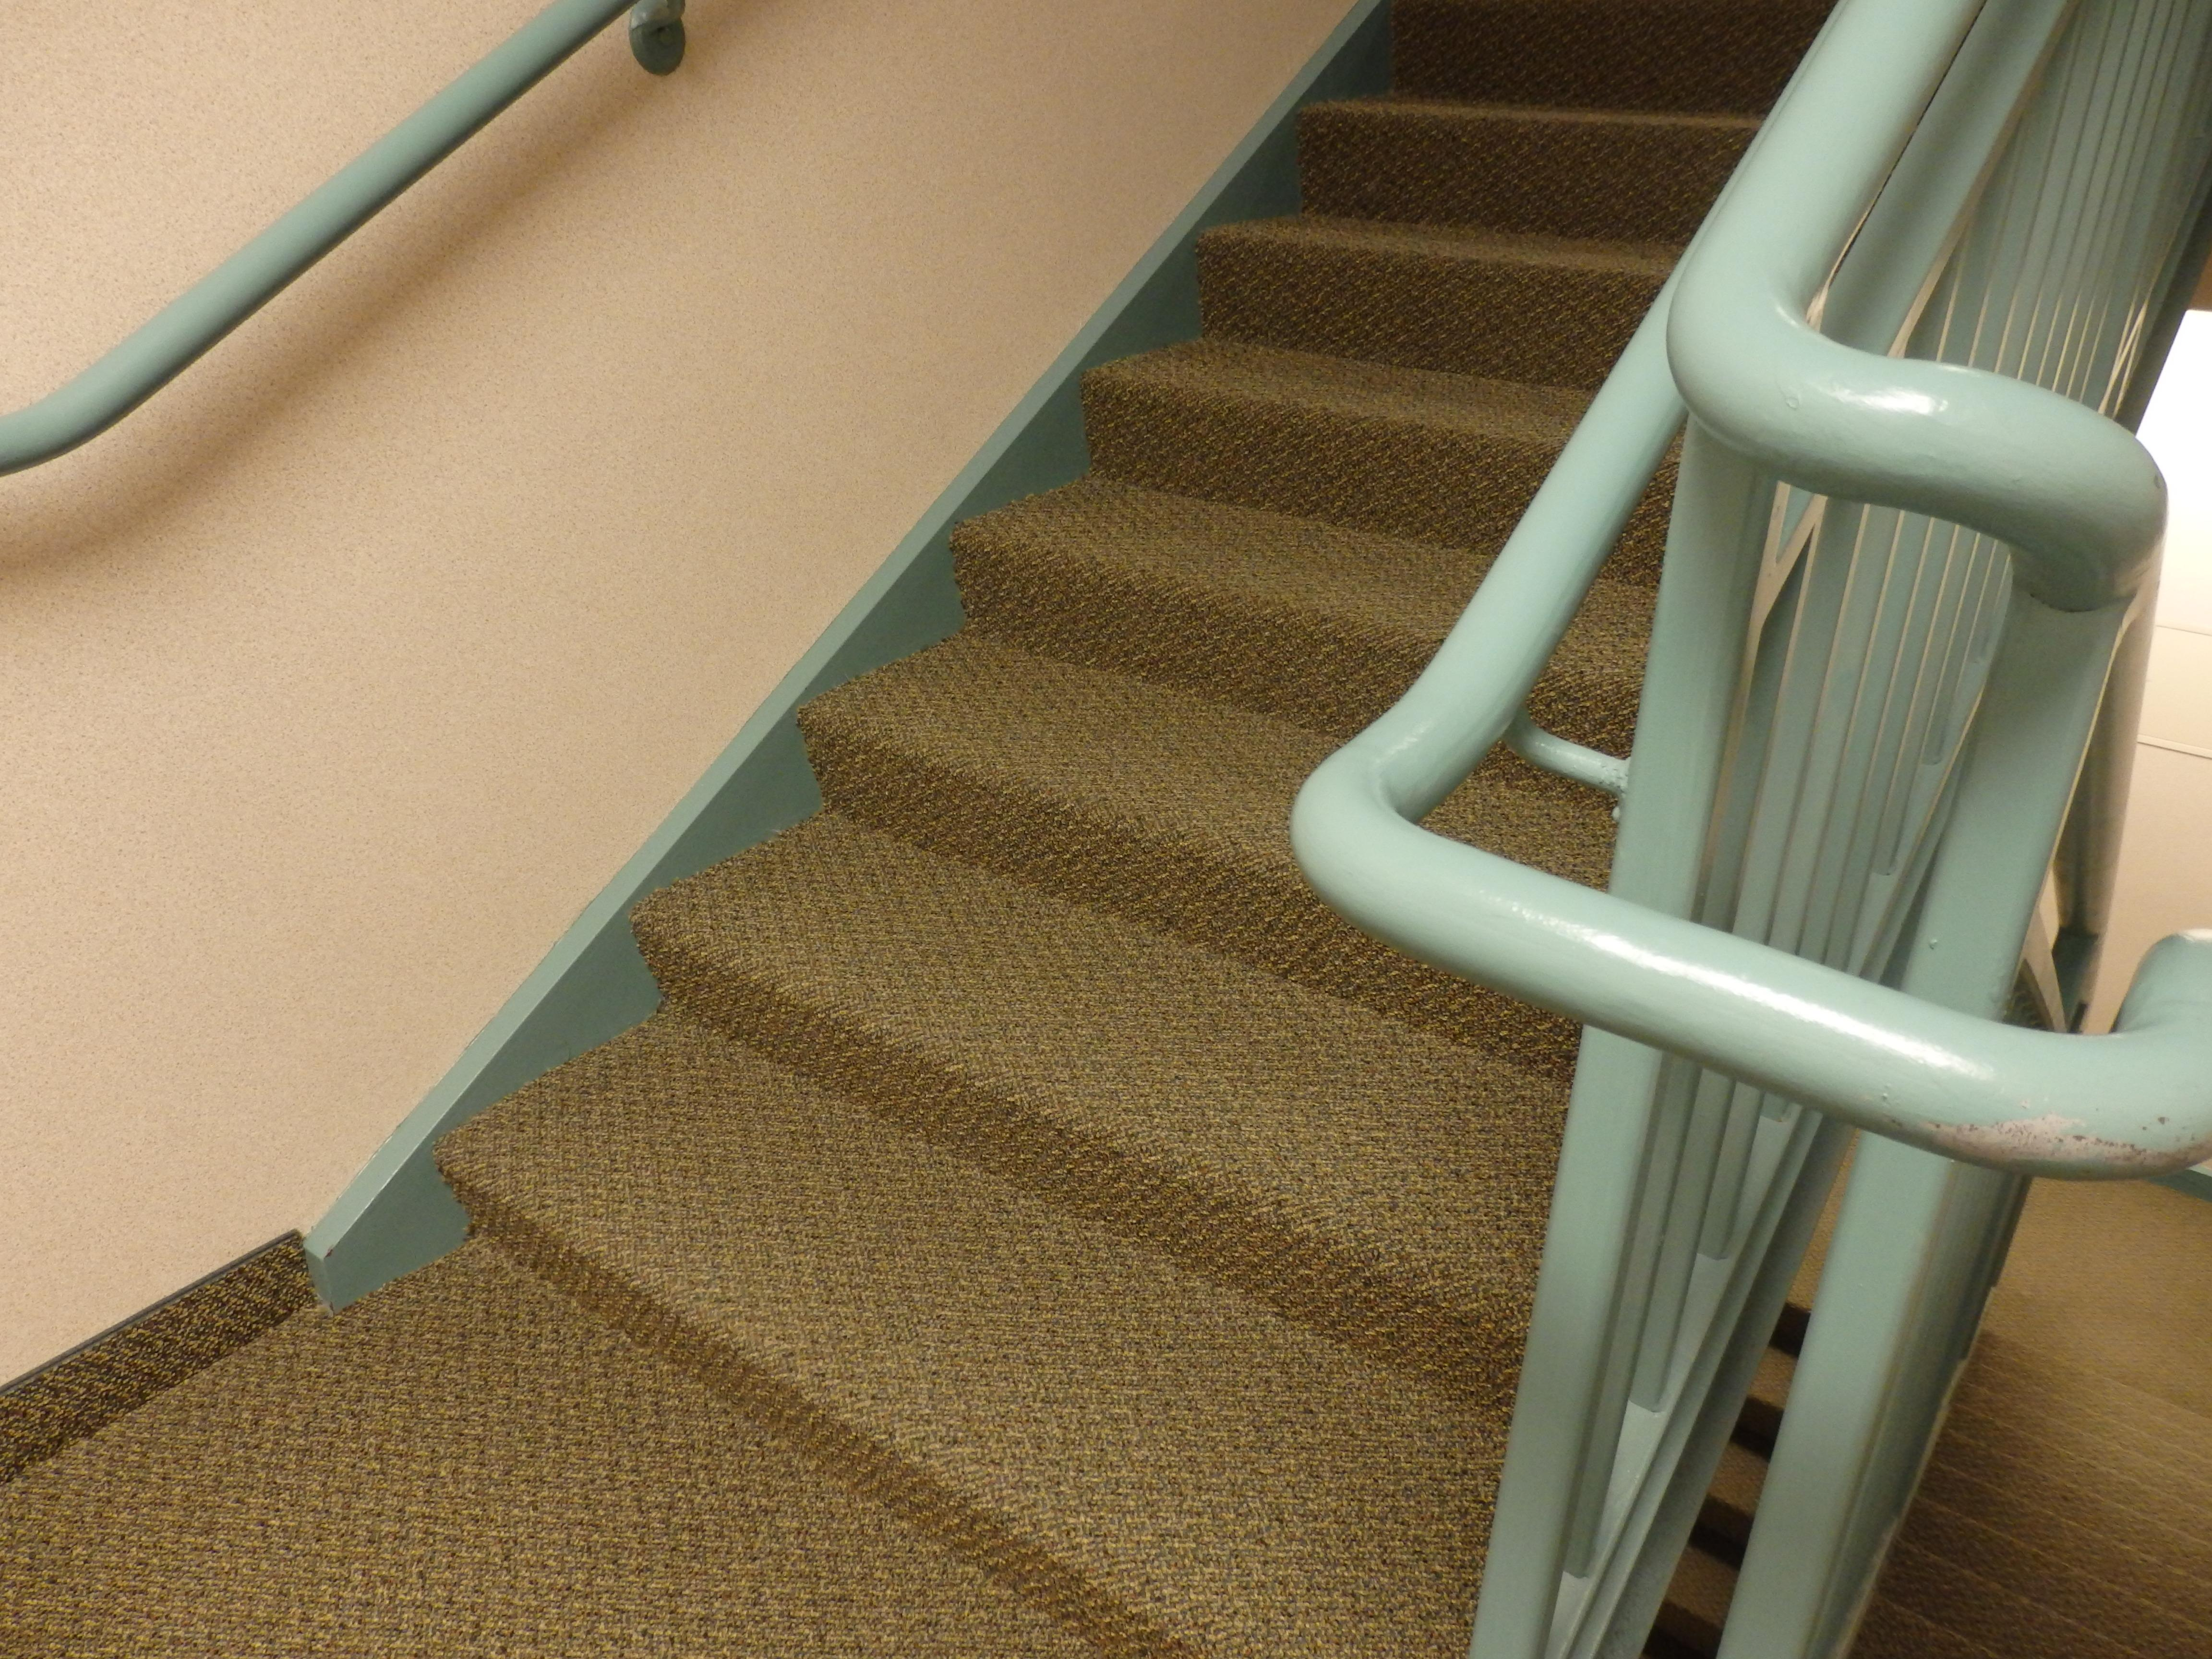stairs_up: (502, 77, 1752, 1593)
